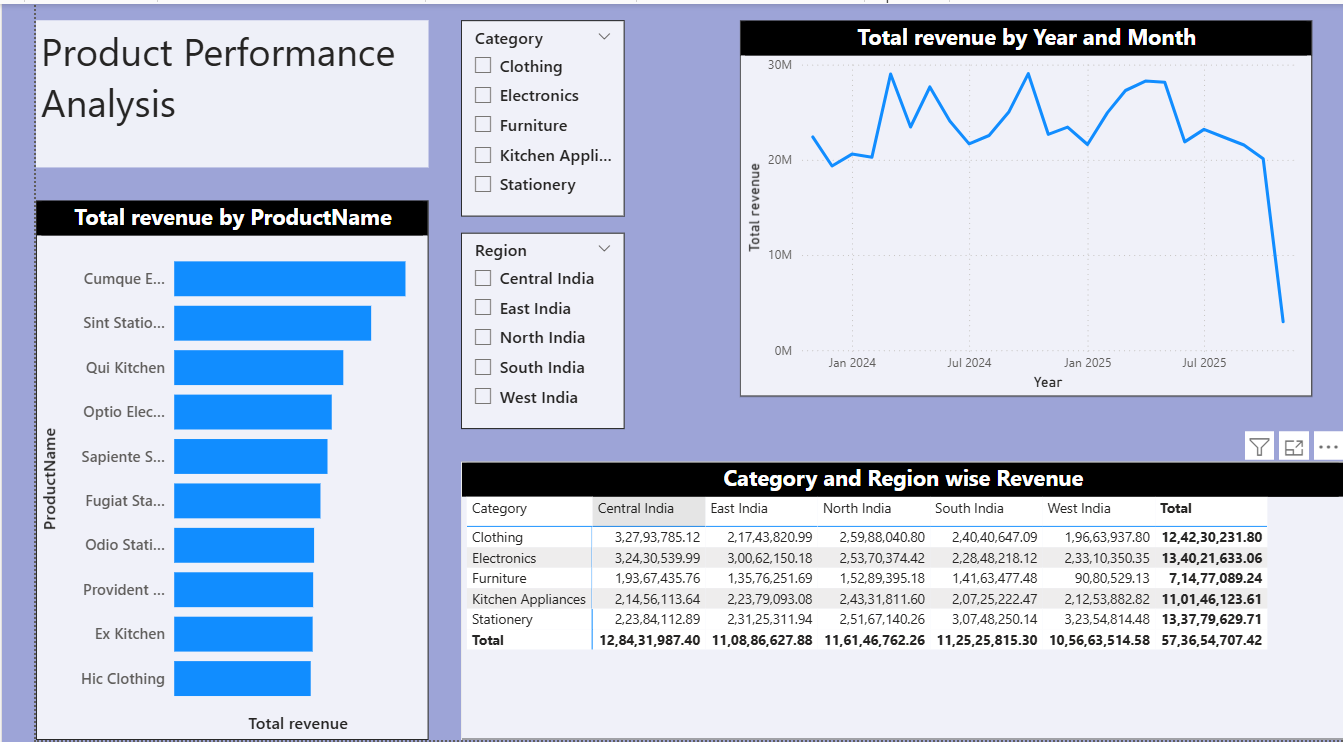

Layout of this report page (visuals, bound fields, positions):
{"tool":"powerbi","page":{"name":"Product Performence Analysis","canvas":[1280,720],"ordinal":1},"visuals":[{"type":"clusteredBarChart","fields":{"Category":["product_master.ProductName"],"Y":["sales.Total revenue"]},"box":[0,192,384,528],"z":0},{"type":"lineChart","fields":{"Y":["sales.Total revenue"],"Category":["sales.Date.Variation.Date Hierarchy.Year","sales.Date.Variation.Date Hierarchy.Month"]},"box":[720,16,528,288],"z":1000},{"type":"pivotTable","title":"Category and Region wise Revenue","fields":{"Rows":["product_master.Category"],"Columns":["sales.Region"],"Values":["Sum(sales.Revenue)"]},"box":[416,448,864,272],"z":2000},{"type":"textbox","box":[0,16,384,144],"z":2001},{"type":"slicer","fields":{"Values":["product_master.Category"]},"box":[416,16,160,192],"z":2002},{"type":"slicer","fields":{"Values":["sales.Region"]},"box":[416,224,160,192],"z":2003}]}

Visuals, with their boxes in screenshot pixels (x1, y1, x2, y2), scaled from the page's 1280x720 canvas onto the 1343x742 screenshot:
clusteredBarChart - product_master.ProductName x sales.Total revenue: {"x1": 0, "y1": 198, "x2": 403, "y2": 741}
lineChart - sales.Total revenue x sales.Date.Variation.Date Hierarchy.Year: {"x1": 755, "y1": 16, "x2": 1309, "y2": 313}
"Category and Region wise Revenue" pivotTable: {"x1": 436, "y1": 462, "x2": 1342, "y2": 741}
textbox: {"x1": 0, "y1": 16, "x2": 403, "y2": 165}
slicer - product_master.Category: {"x1": 436, "y1": 16, "x2": 604, "y2": 214}
slicer - sales.Region: {"x1": 436, "y1": 231, "x2": 604, "y2": 429}
